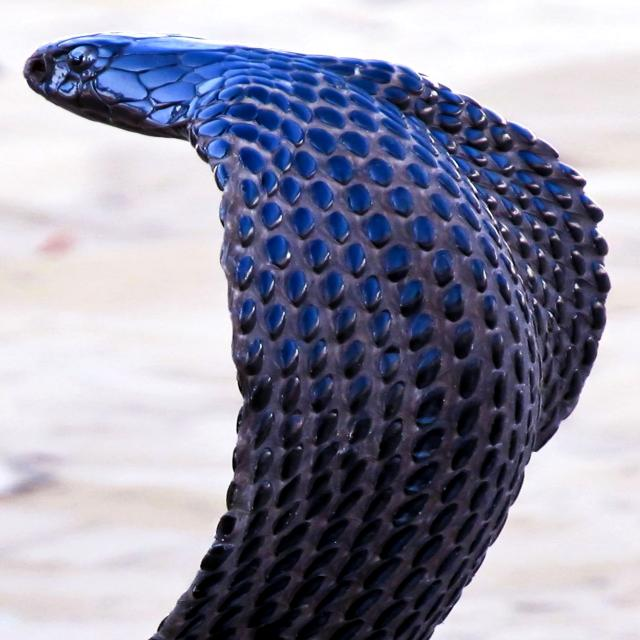Ophiophagus hannah: (26, 34, 609, 639)
snake: (26, 34, 609, 639)
